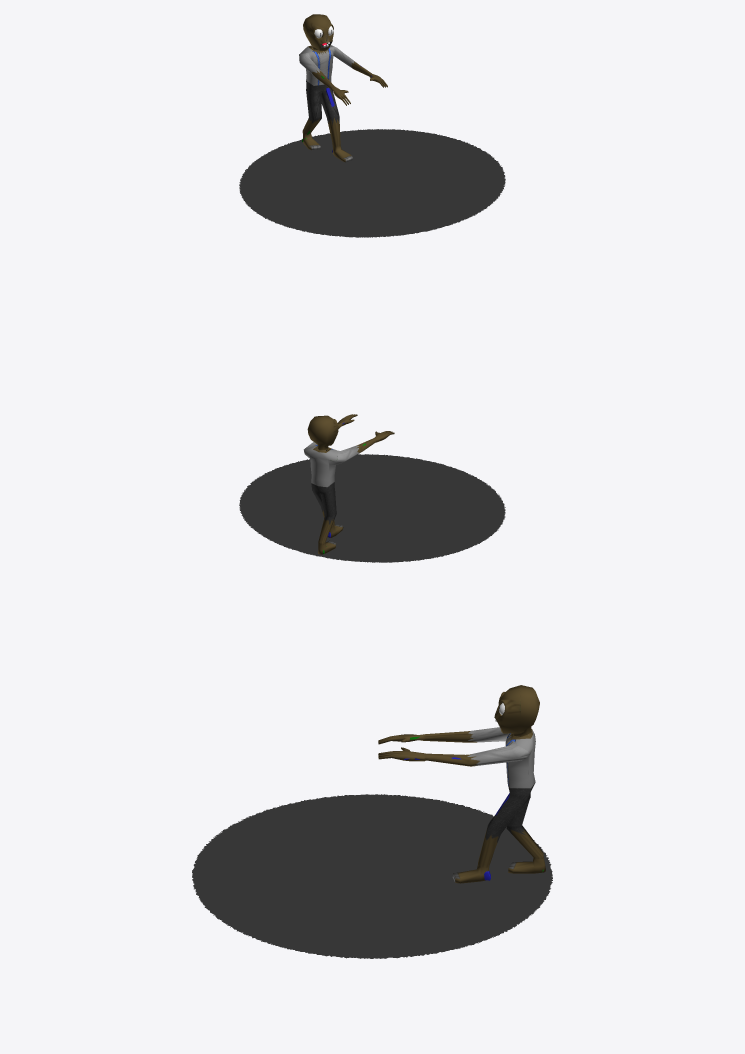
The model's file is zom.obj.
The picture shows the model from 3 angles, top to bottom: view 1: azimuth 30°, elevation 25°; view 2: azimuth 150°, elevation 25°; view 3: azimuth 270°, elevation 25°; orthographic projection. The views are drawn at different scales.
Visible parts, largest first — view 1: zombie-attack; view 2: zombie-attack; view 3: zombie-attack.
Boxes of the visible parts, x1,y1,x2,y2 form: zombie-attack: [239, 14, 505, 237]; zombie-attack: [239, 414, 505, 562]; zombie-attack: [192, 685, 552, 958].
Size of the model in its own units: 77.91 by 20.88 by 72.25.
Materials: 9 (1 with a texture image).
